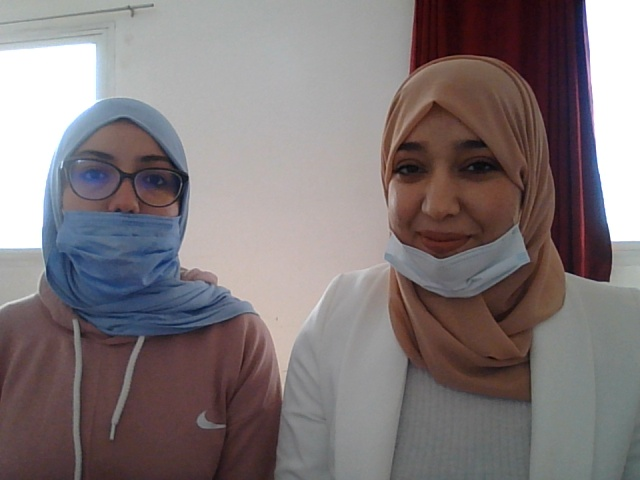mask_weared_incorrect: (366, 72, 535, 296), (41, 102, 199, 298)
